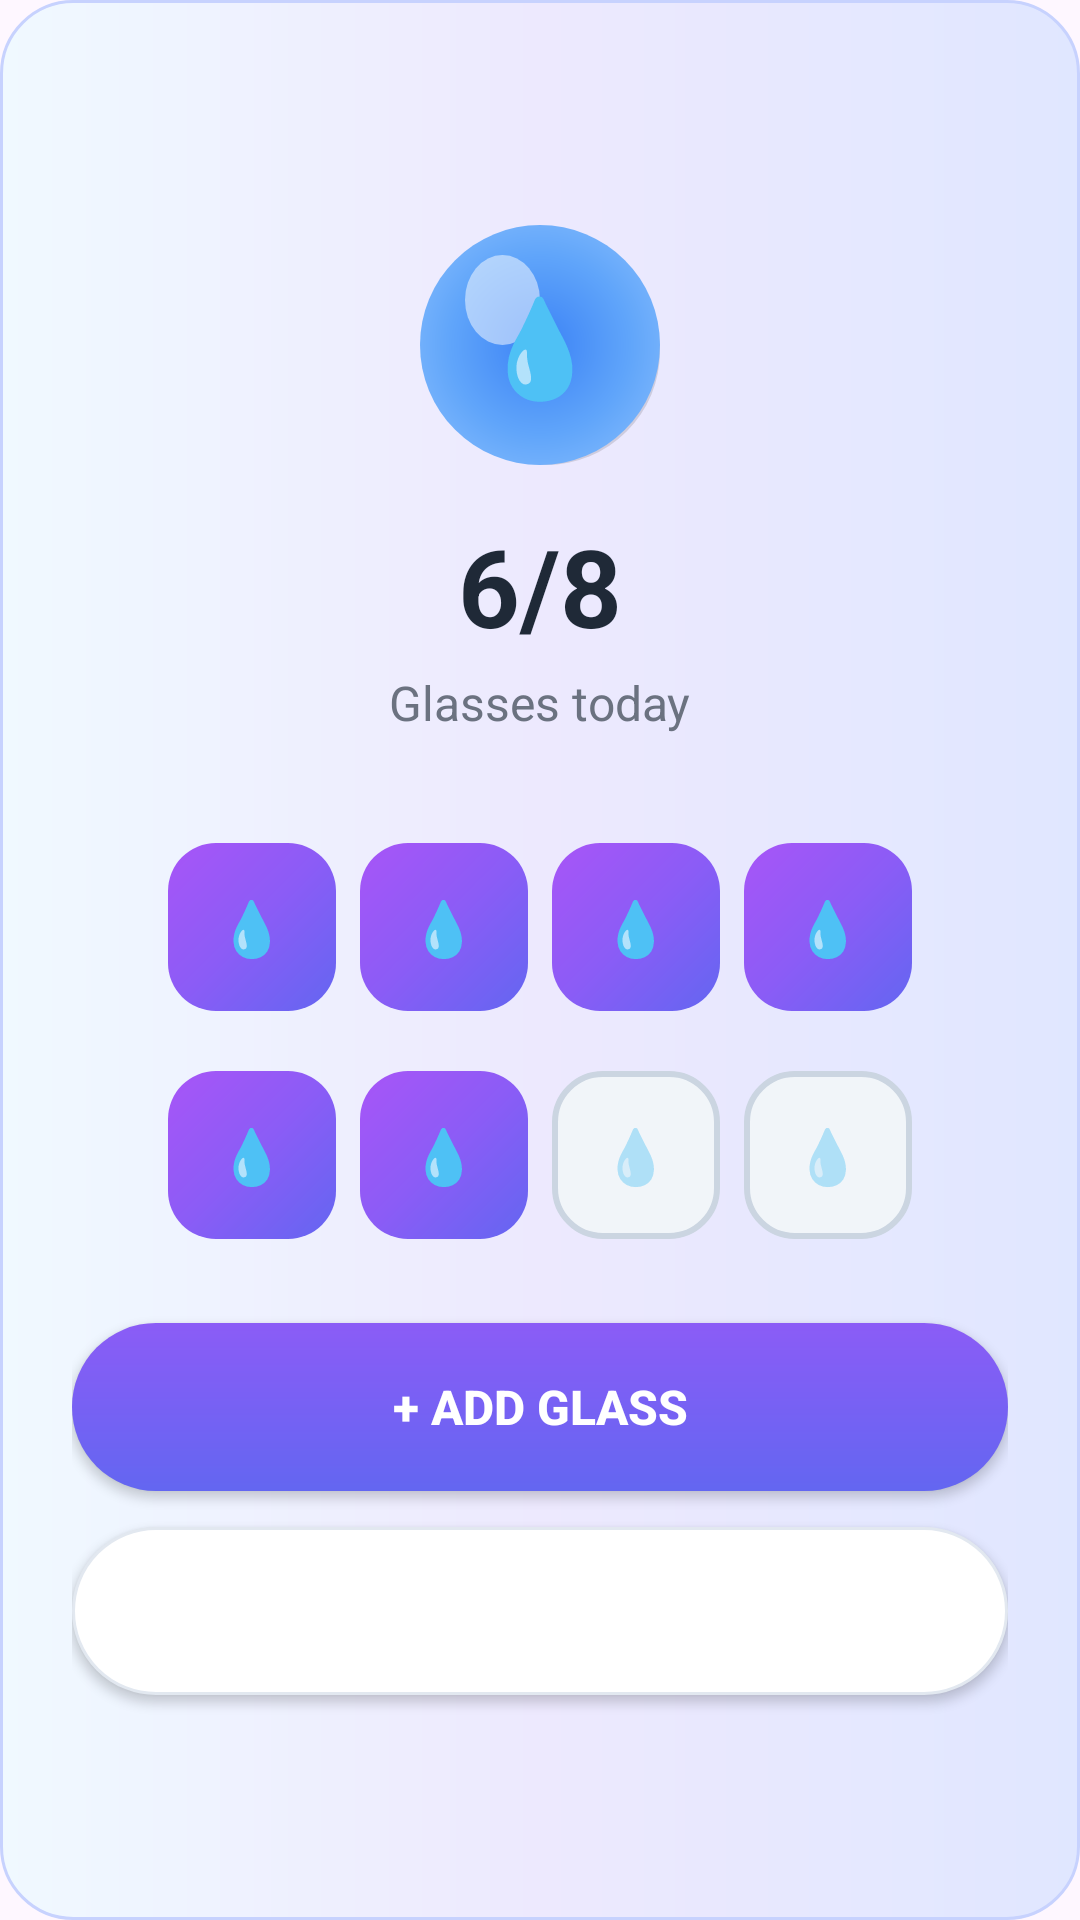

Locate icon controls on the screen. Image size 1080 × 1920, boxes as (x1, y1, x2, y2).
water drop: (420, 225, 660, 465)
